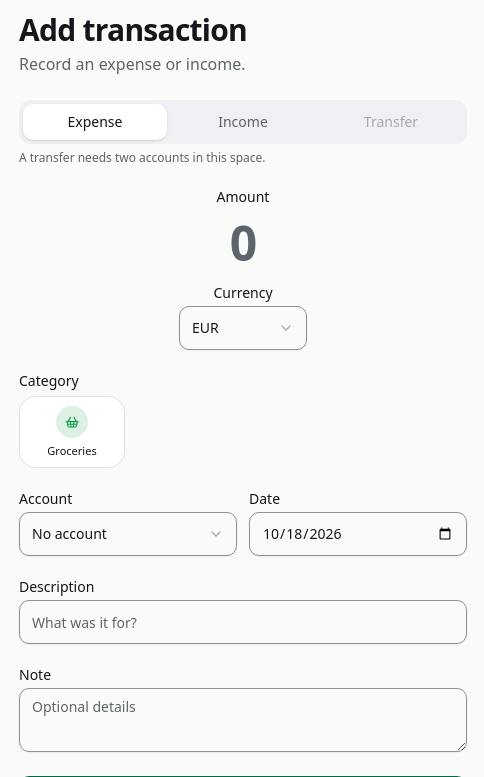
Scenario: the calm entry screen › locks the currency to the picked account and frees it without one (BR-39)
Click the dropdown labelled "account" at [128, 534], box x1=19 y1=512 x2=237 y2=556
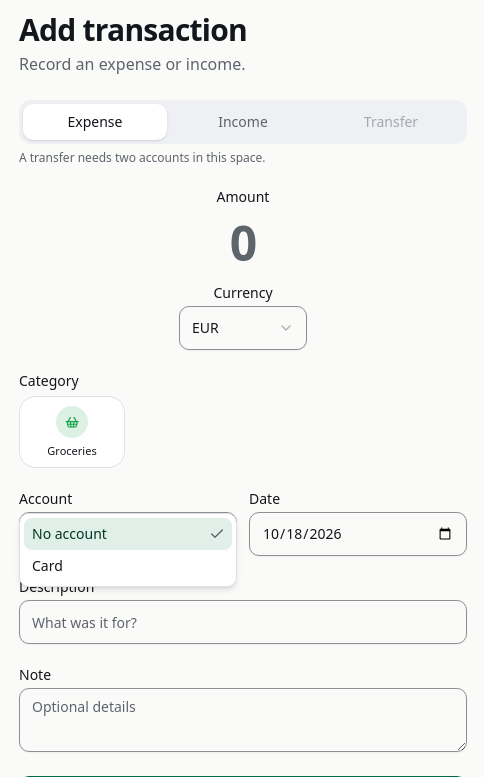
Click the option "Card" at [47, 566], box x1=32 y1=556 x2=63 y2=575
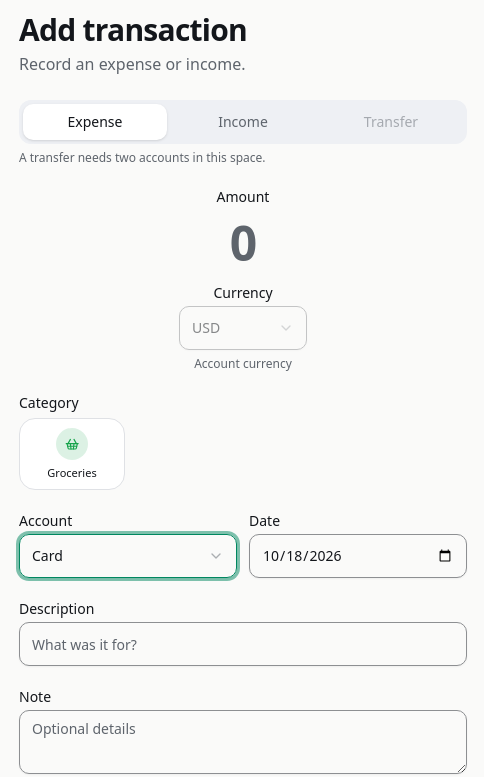
Now the dropdown named "Currency" is disabled, box x1=179 y1=306 x2=307 y2=350
Now the dropdown named "Currency" reads "USD", box x1=179 y1=306 x2=307 y2=350
Now the text "Account currency" is shown, box x1=194 y1=356 x2=292 y2=372
Click the dropdown labelled "Card" at [128, 556], box x1=19 y1=534 x2=237 y2=578
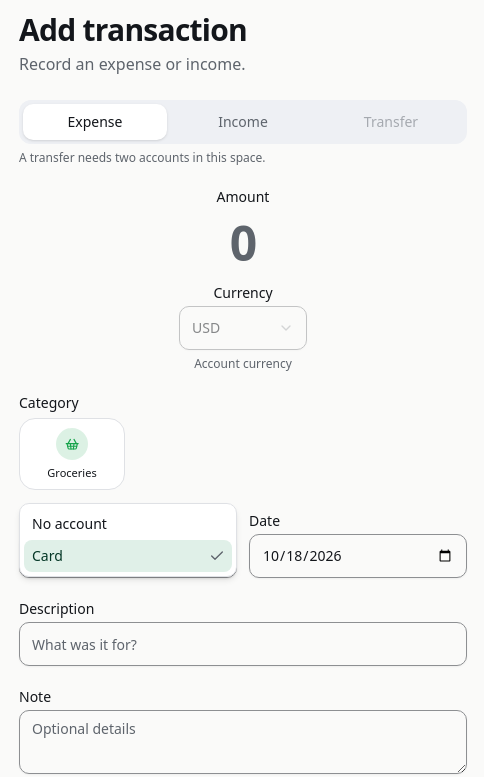
Click the option "No account" at [69, 524], box x1=32 y1=514 x2=107 y2=533
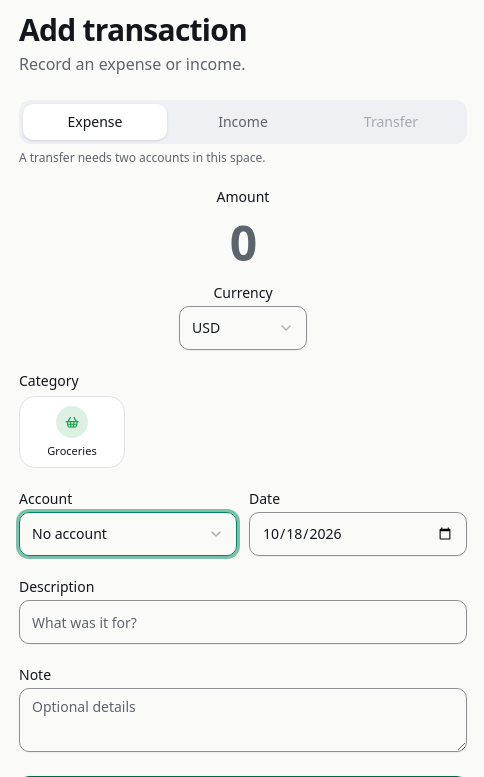
Now the dropdown named "Currency" is enabled, box x1=179 y1=306 x2=307 y2=350
Now the text "Account currency" is gone
